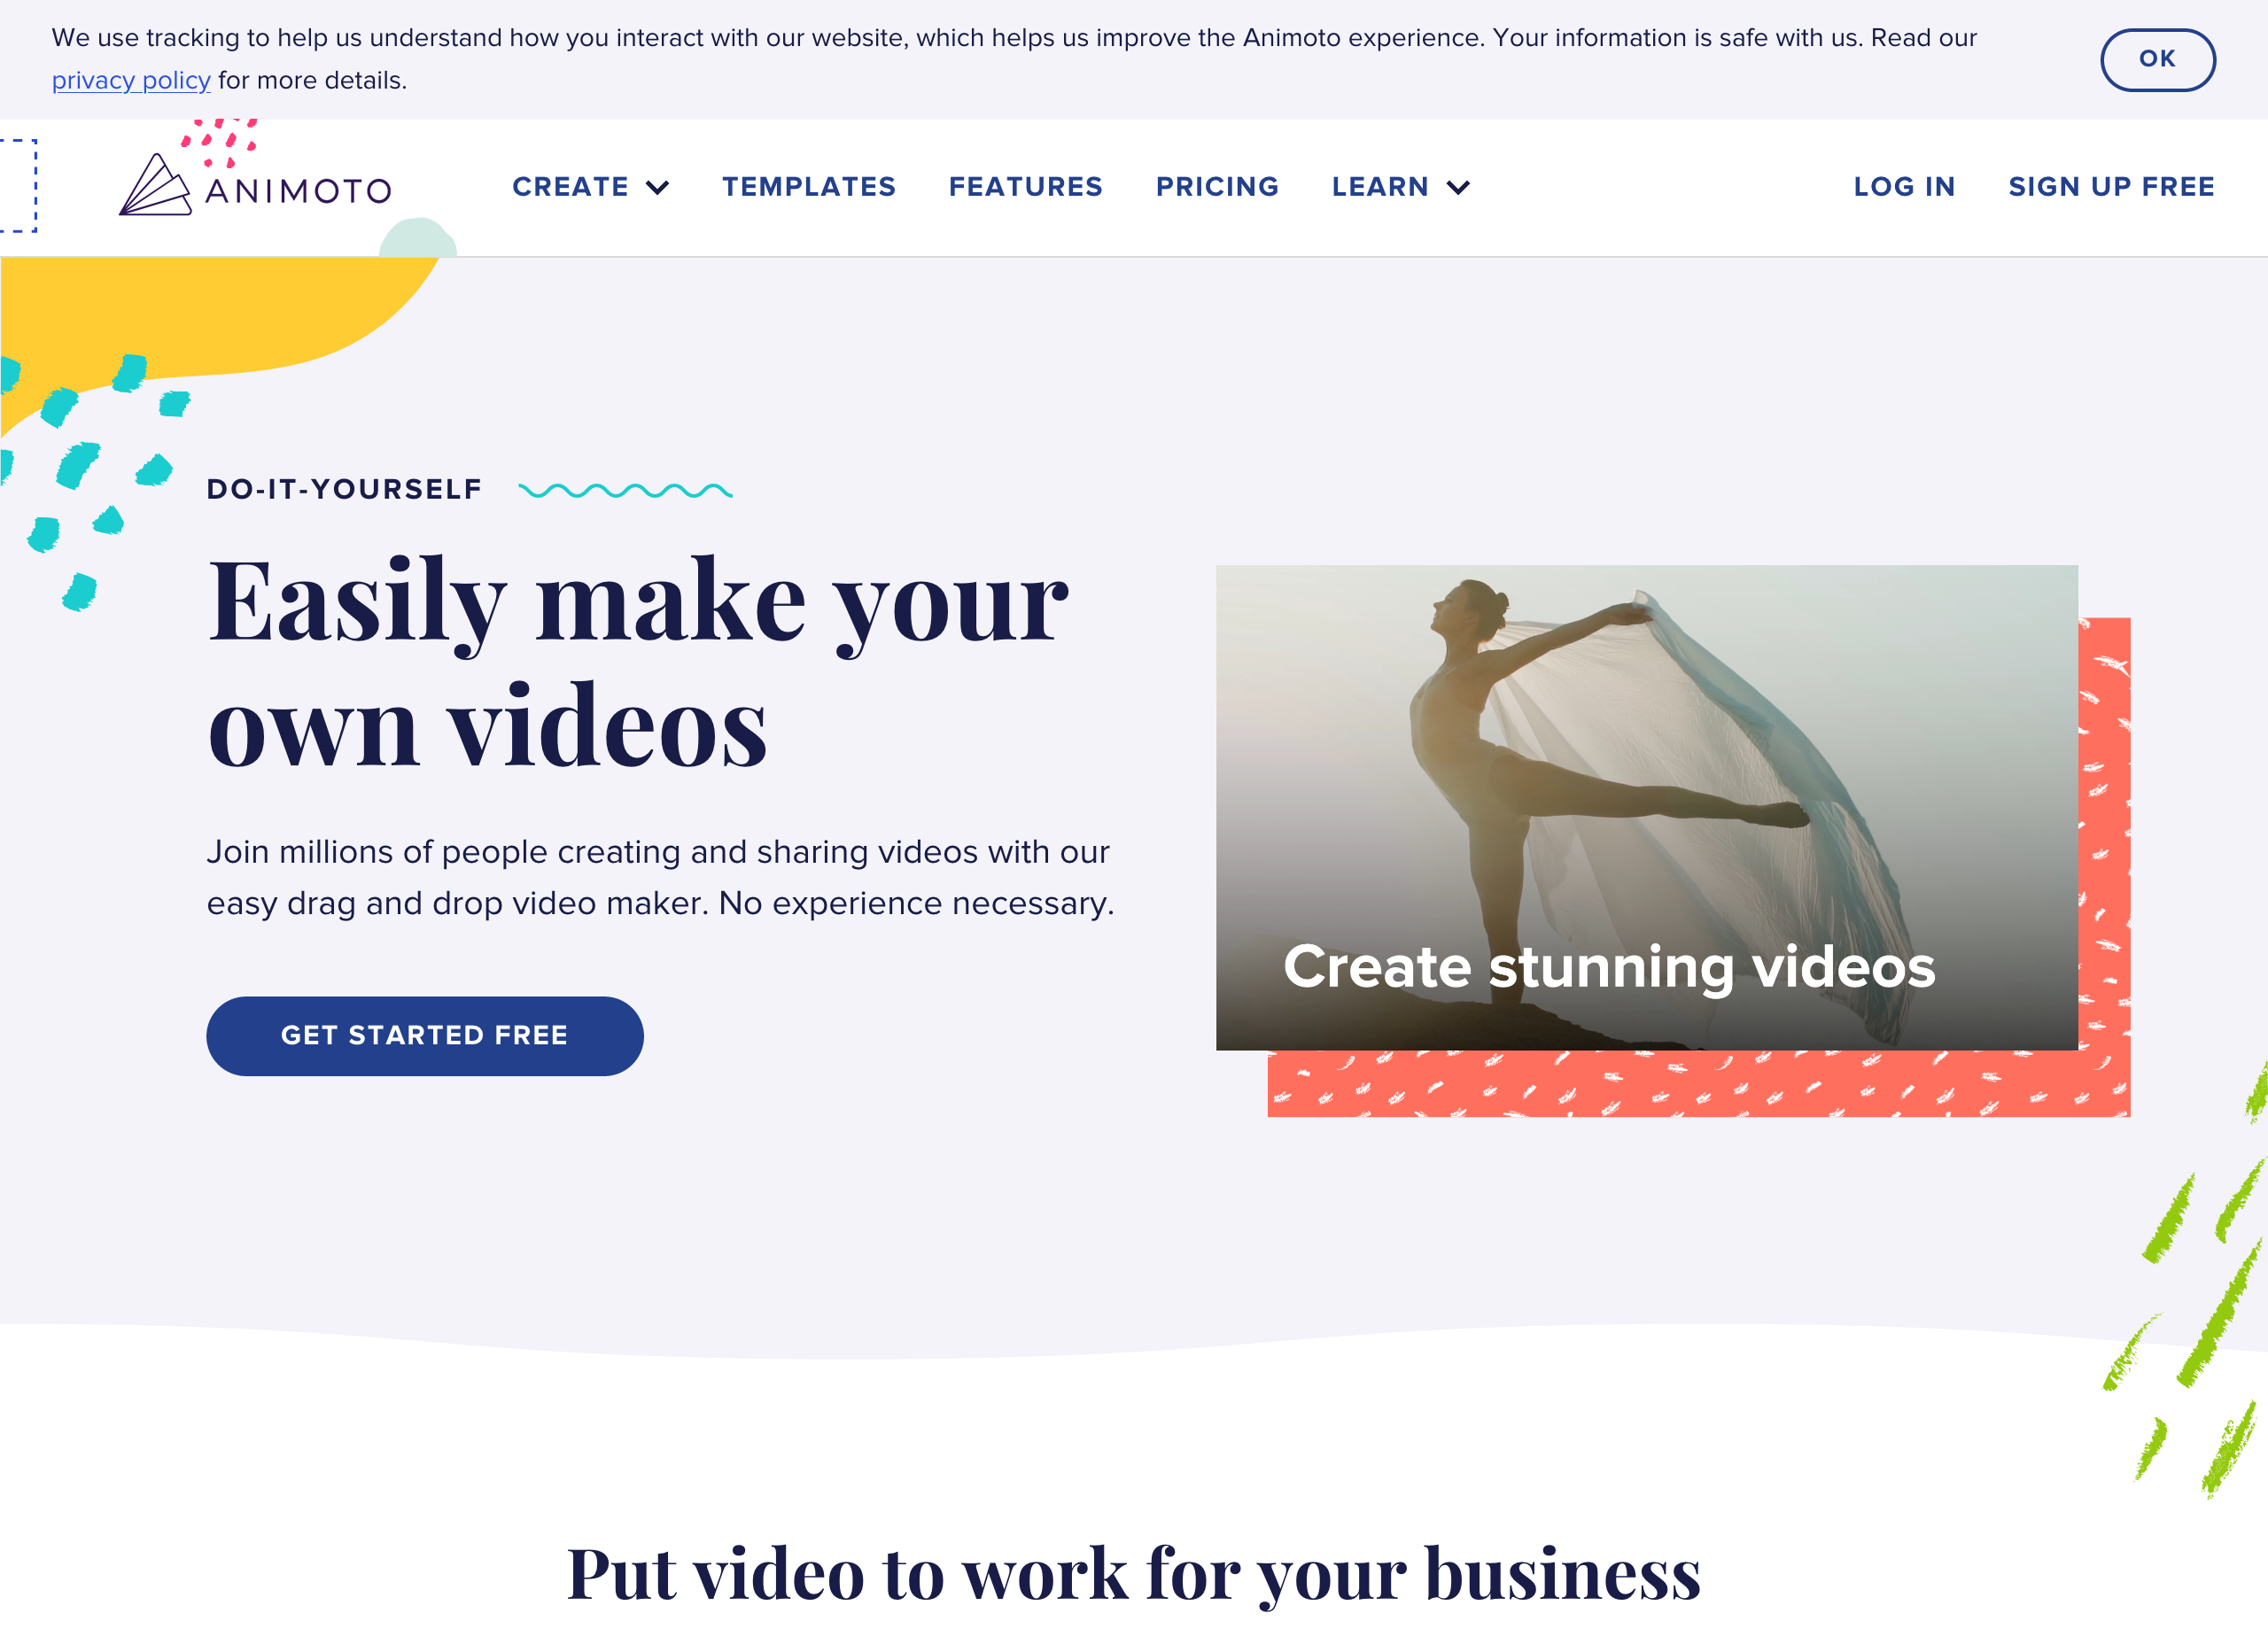Login: (1833, 155, 1977, 215)
